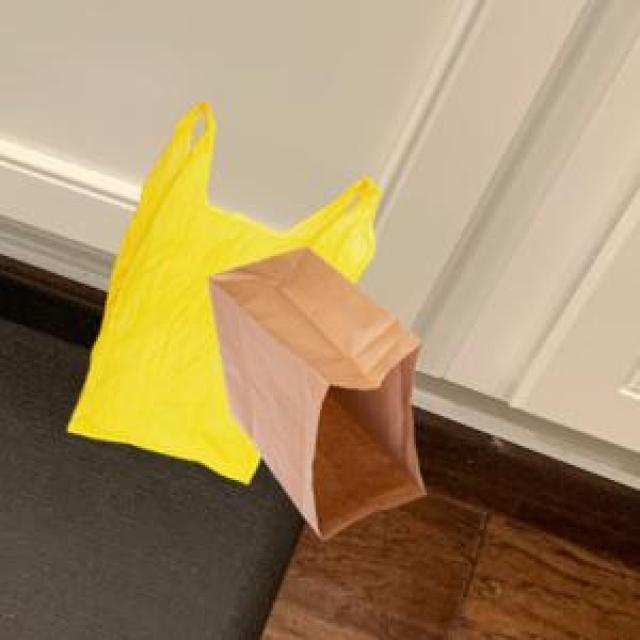paper: (205, 243, 420, 536)
